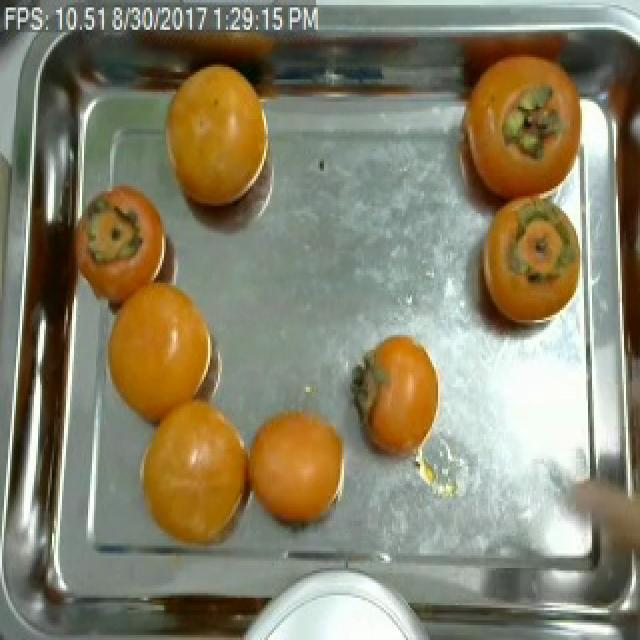Fruit: (440, 30, 586, 233), (130, 382, 266, 563), (150, 50, 284, 223), (234, 394, 360, 544), (462, 191, 584, 342), (342, 322, 450, 477), (568, 471, 640, 620), (134, 570, 284, 640)
